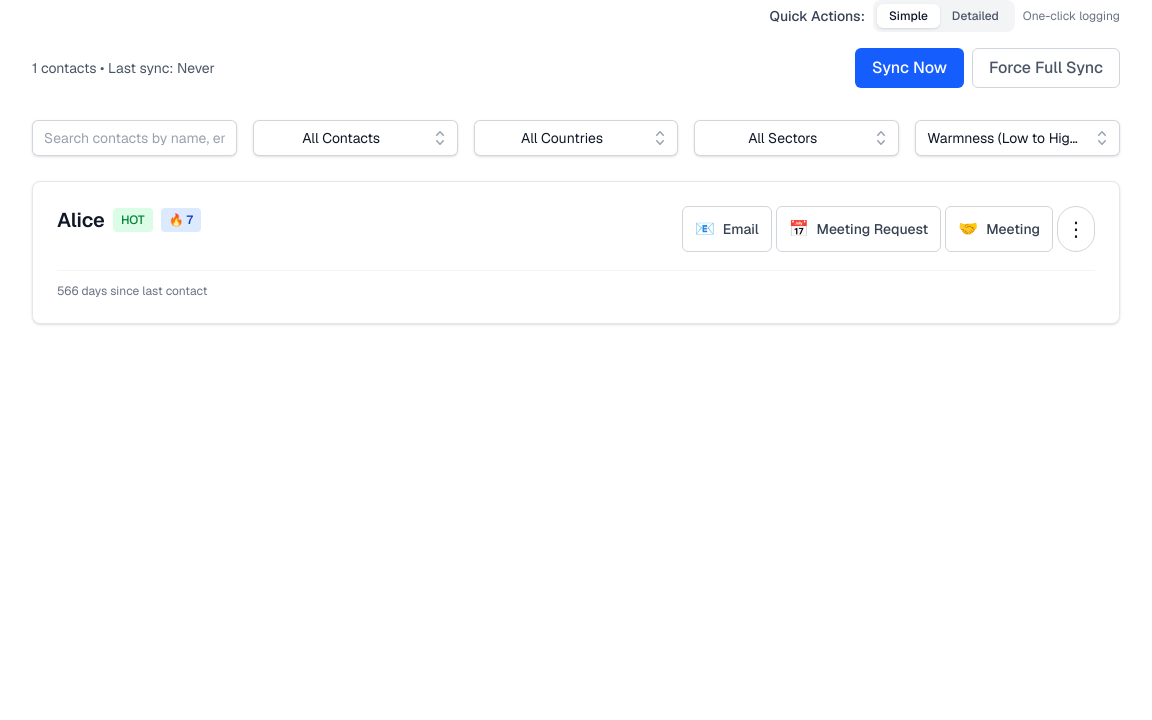
Test: My500Client User Preferences Integration › should use SIMPLE mode behavior when user preference is SIMPLE
The width and height of the screenshot is (1152, 720).
Check: the text "One-click logging" is shown, box left=1023, top=8, right=1120, bottom=24
Find and click the email action button
Click the button with aria-label "Log email sent to Alice" at (727, 229), box left=682, top=206, right=772, bottom=252
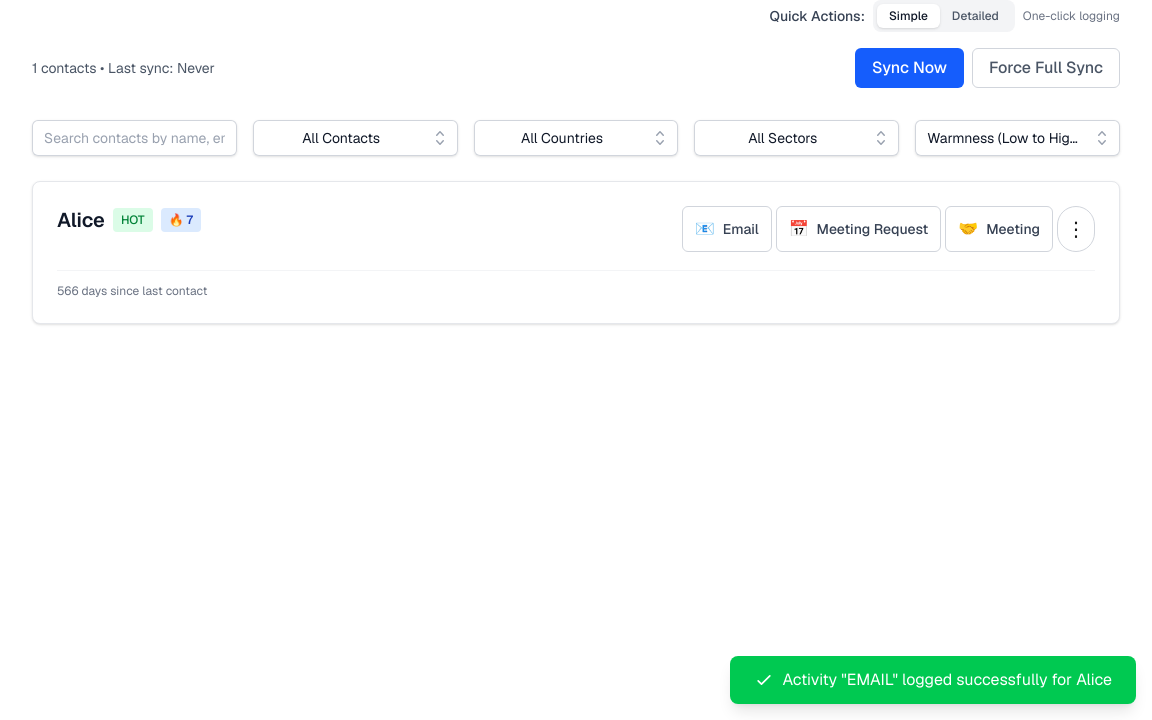
Check: the text "Activity \"EMAIL\" logged successfully for Alice" is shown, box left=782, top=668, right=1112, bottom=692
